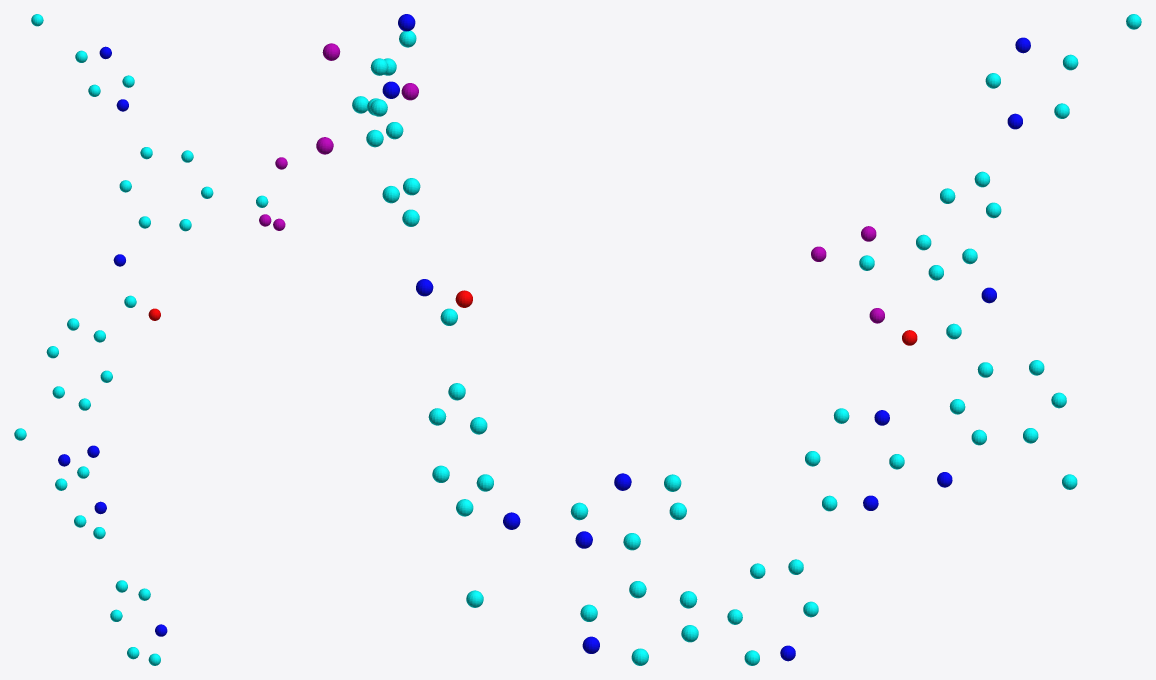
The model's file is nil_d.glb.
3 renders of one model, left to right at view 1: azimuth 30°, elevation 25°; view 2: azimuth 150°, elevation 25°; view 3: azimuth 270°, elevation 25°, orthographic. The views are drawn at different scales.
Size of the model in its own units: 1.08 by 2.26 by 1.27.
